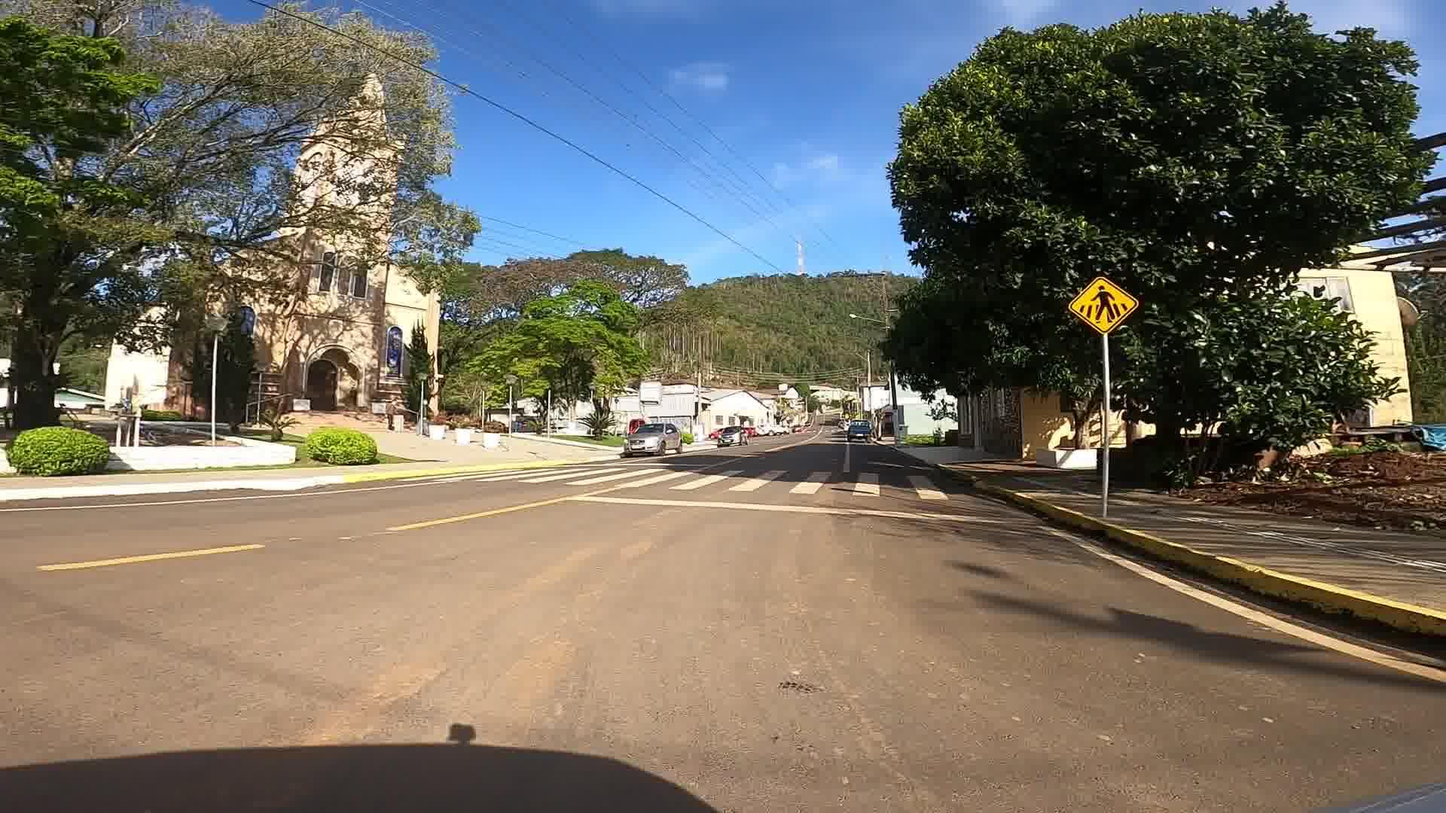A-32b: (1067, 272, 1139, 339)
